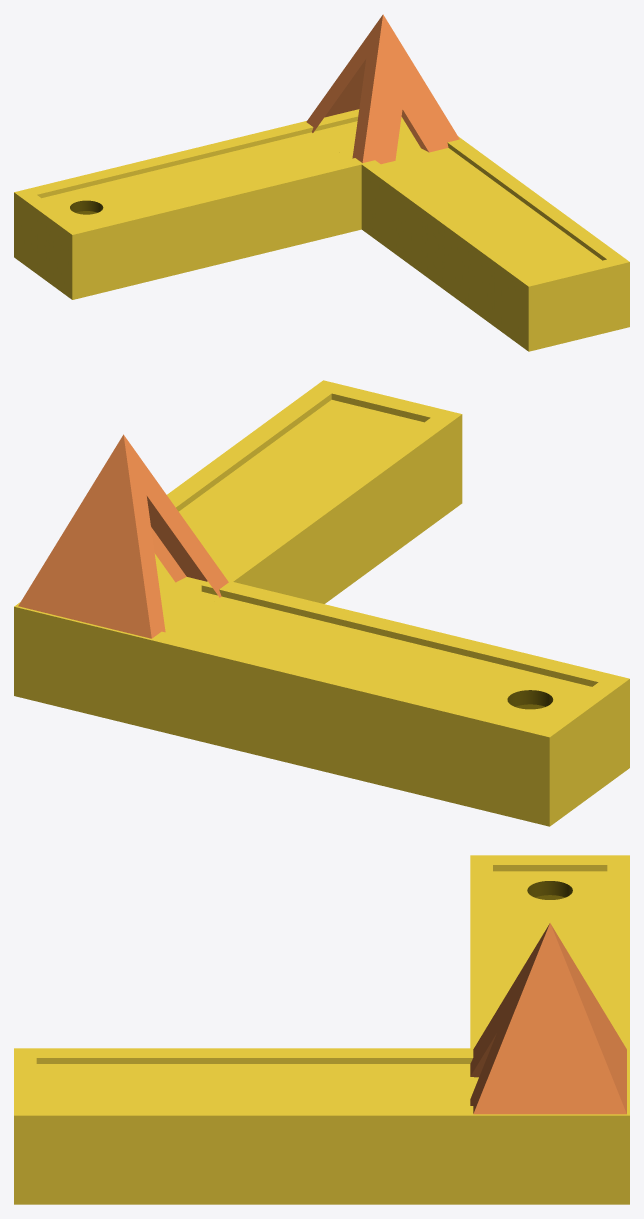
The model's file is LVL 1 Model.fbx.
3 renders of one model, top to bottom at view 1: azimuth 30°, elevation 25°; view 2: azimuth 150°, elevation 25°; view 3: azimuth 270°, elevation 25°, orthographic. The views are drawn at different scales.
Parts seen in each view (by area): view 1: Boole_1; view 2: Boole_1; view 3: Boole_1.
Boxes of the visible parts, x1,y1,x2,y2 form: Boole_1: (14, 14, 629, 351); Boole_1: (14, 380, 629, 826); Boole_1: (14, 855, 629, 1204).
Size of the model in its own units: 270 by 120 by 270.
